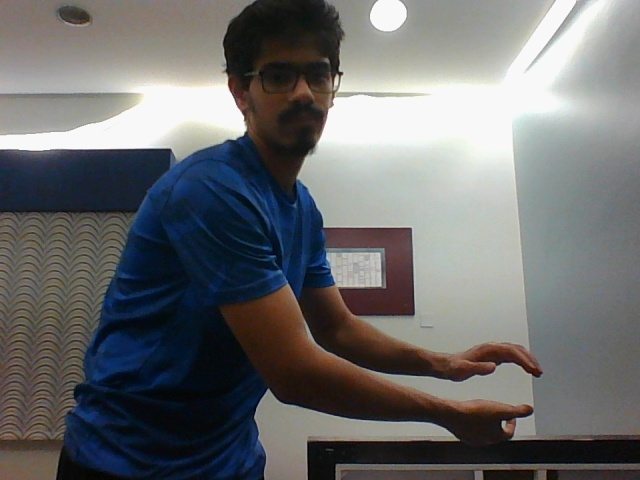charge: (436, 325, 547, 444)
